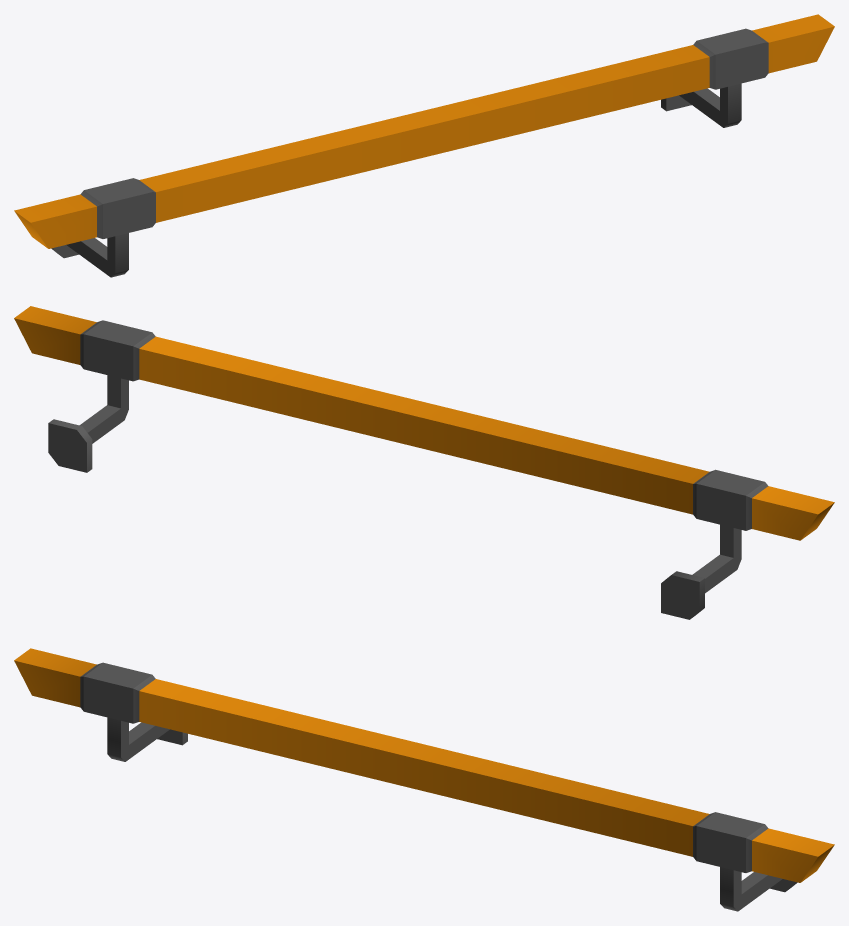
File: LPSciFi_WallHandleB.fbx
3 views of the same model, one above another, from view 1: azimuth 30°, elevation 25°; view 2: azimuth 150°, elevation 25°; view 3: azimuth 330°, elevation 25° (orthographic).
Visible parts, largest first — view 1: WallHandleB; view 2: WallHandleB; view 3: WallHandleB.
Boxes of the visible parts, box(x1,y1,x2,y2) form: WallHandleB: box(14, 14, 834, 277); WallHandleB: box(14, 306, 834, 619); WallHandleB: box(14, 648, 834, 911).
Bounding box in the file's own units: 161 × 18.78 × 20.82.
